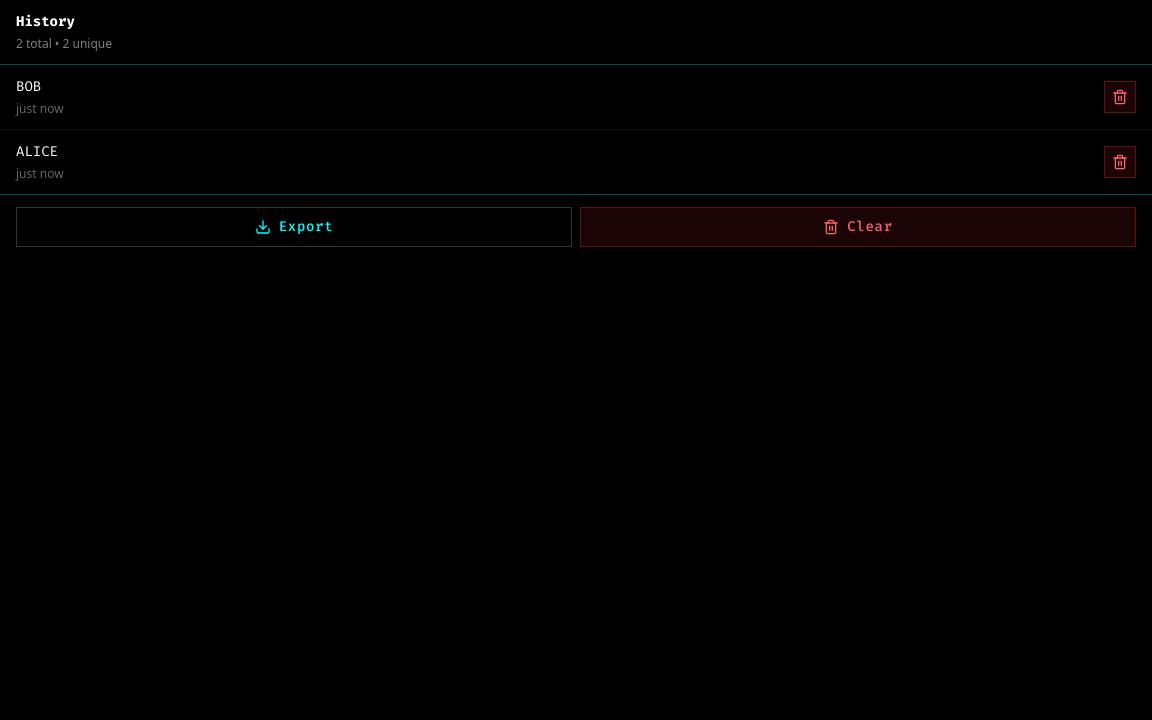
HistoryPanel › should clear all history when confirmation is accepted
Click the button with aria-label "clear all history" at (858, 227), box x1=580 y1=207 x2=1136 y2=247
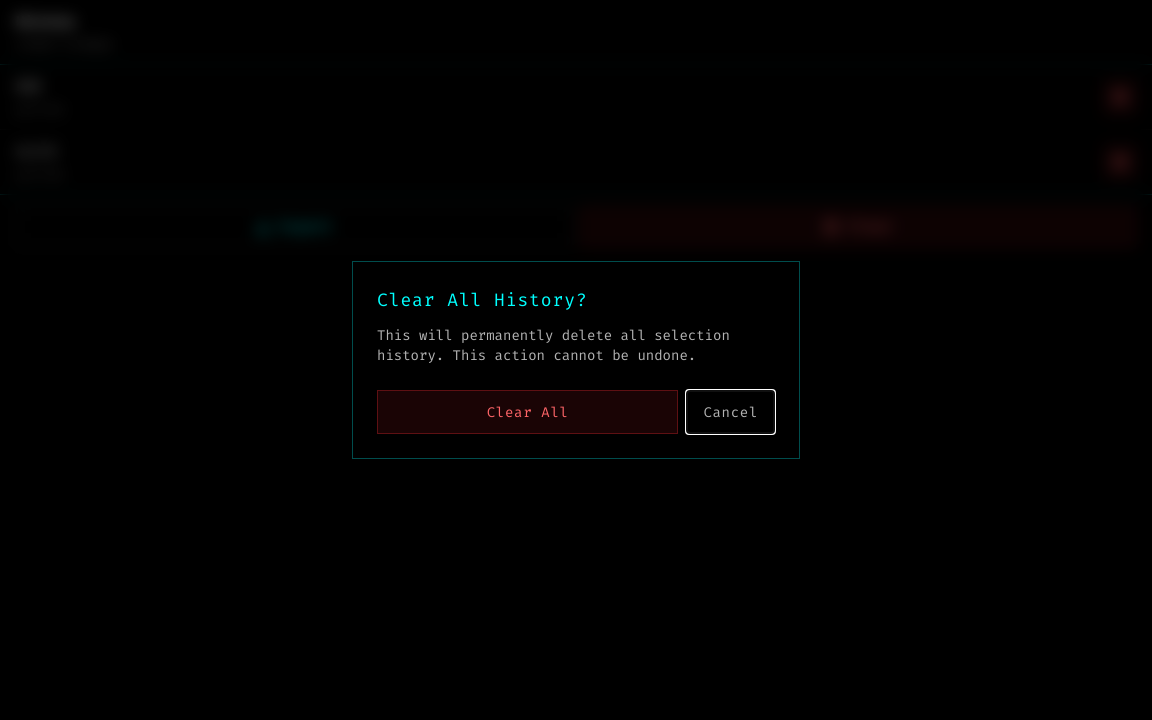
Click the button "Clear All" at (528, 412), box x1=377 y1=390 x2=678 y2=434
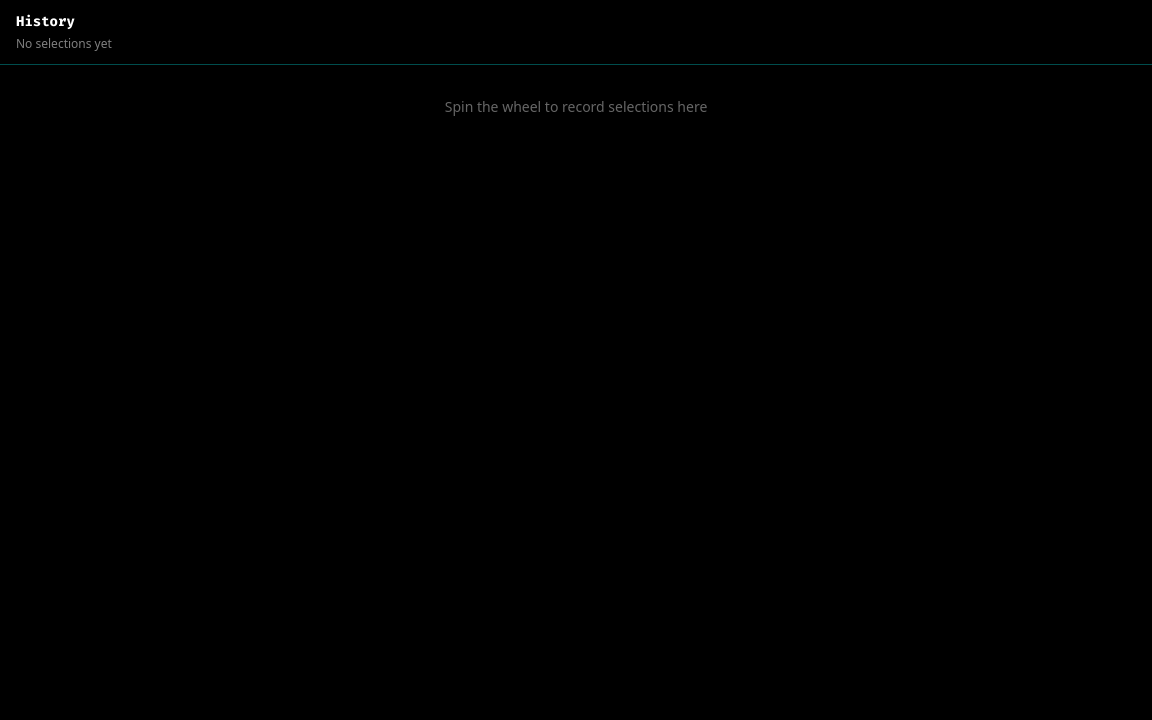
Check: the text "Spin the wheel to record selections here" is shown, box x1=445 y1=97 x2=707 y2=117
